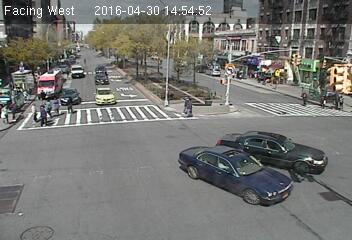neg: (281, 133, 327, 193), (188, 137, 230, 193), (123, 181, 155, 223), (300, 27, 328, 65), (92, 96, 119, 132), (247, 10, 272, 44), (150, 48, 171, 75), (158, 2, 176, 27), (123, 75, 141, 98)
